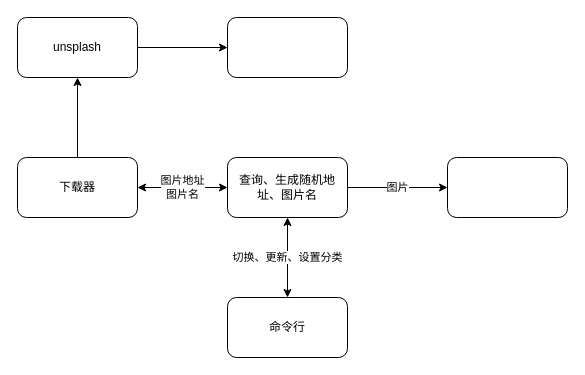
Image size: 585x375. Some labels were removed from this diagram. The centre of each missing label's shape, as x and y in pixels:
"壁纸" goes at pixel 287 47.
"系统服务" goes at pixel 507 187.
